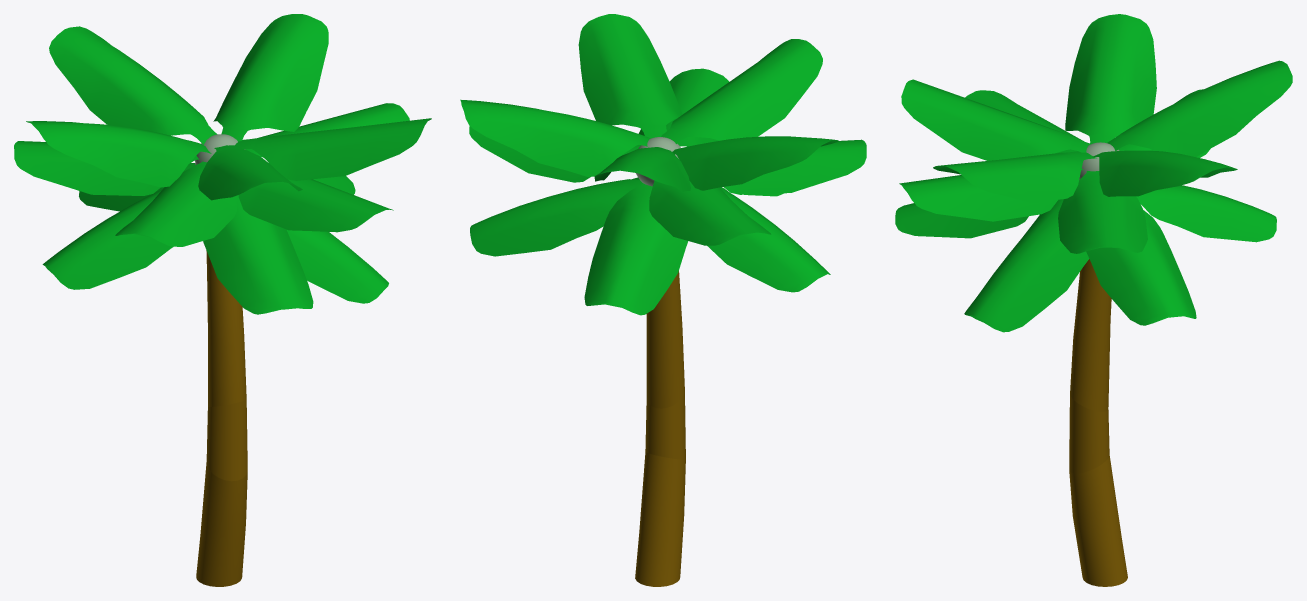
File: Tree.fbx
The picture shows the model from 3 angles, left to right: view 1: azimuth 30°, elevation 25°; view 2: azimuth 150°, elevation 25°; view 3: azimuth 270°, elevation 25°; orthographic projection. The views are drawn at different scales.
Parts seen in each view (by area): view 1: pCylinder2; view 2: pCylinder2; view 3: pCylinder2.
Boxes of the visible parts, x1=… form: pCylinder2: x1=14, y1=14, x2=431, y2=586; pCylinder2: x1=460, y1=14, x2=866, y2=586; pCylinder2: x1=895, y1=14, x2=1292, y2=586.
Bounding box in the file's own units: 13.84 × 18.14 × 13.5.
